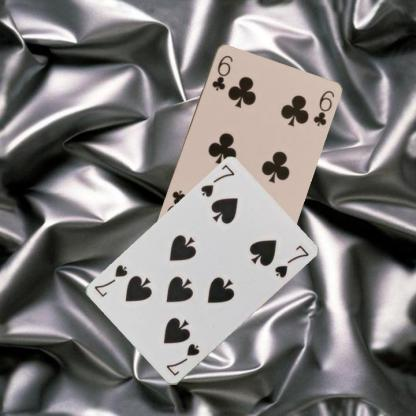6c: (209, 52, 234, 92)
7s: (164, 341, 202, 378), (198, 162, 236, 199)
